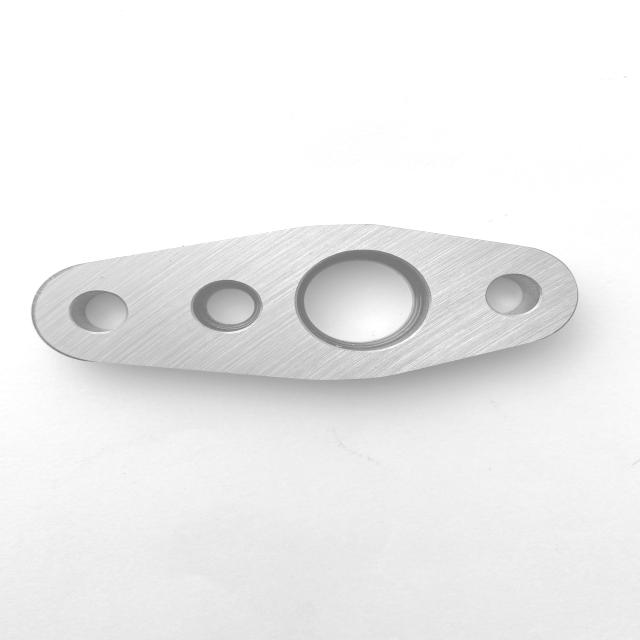chap: (98, 274, 107, 280)
